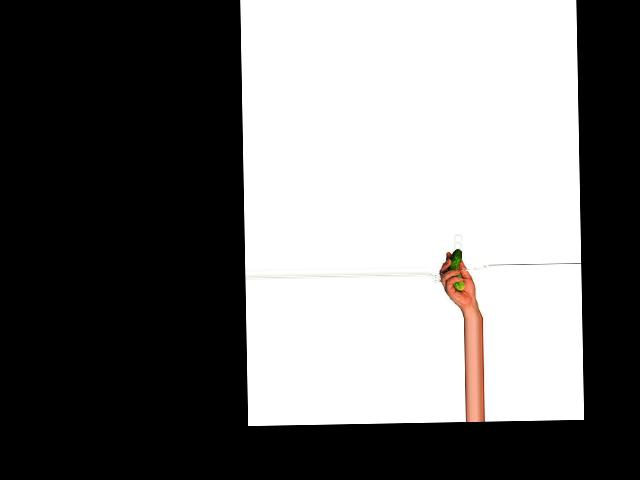cucumber: (448, 249, 464, 291)
